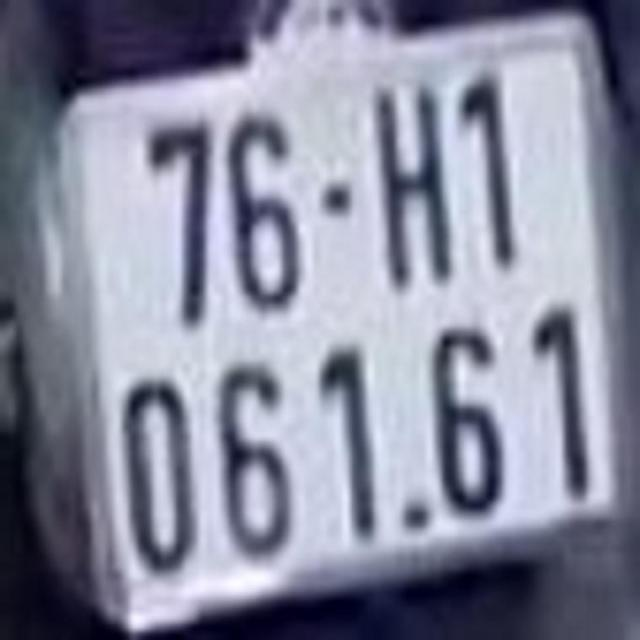0: (120, 375, 196, 570)
1: (315, 347, 381, 544), (457, 66, 515, 272), (535, 300, 588, 500)
6: (227, 111, 303, 306), (214, 361, 290, 553), (436, 322, 503, 509)
7: (150, 116, 213, 318)
H: (375, 79, 453, 294)
